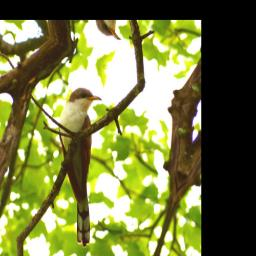Cuckoo: (27, 80, 131, 250)
